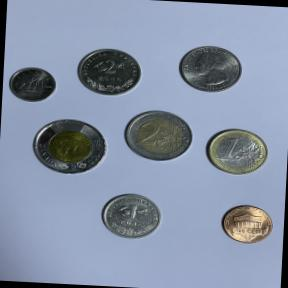1 Euro: (201, 124, 273, 179)
2 Euro: (119, 106, 197, 166)
Canda-10cent-: (4, 64, 62, 108)
Canda-2Dollar-: (27, 115, 112, 179)
Croatia-2Kune-: (71, 43, 148, 103)
US-1cent-: (216, 200, 278, 248)
US-25cent-: (173, 41, 248, 99)
